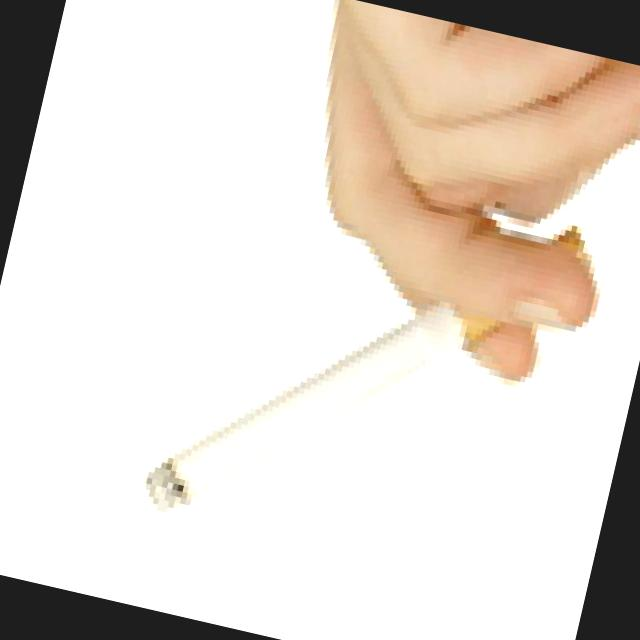cigarette: (126, 243, 492, 586)
